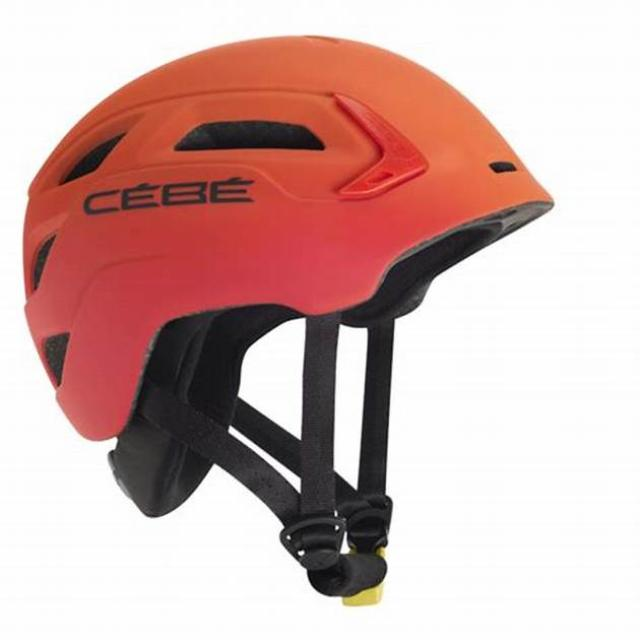illegal_helmet: (17, 27, 560, 619)
